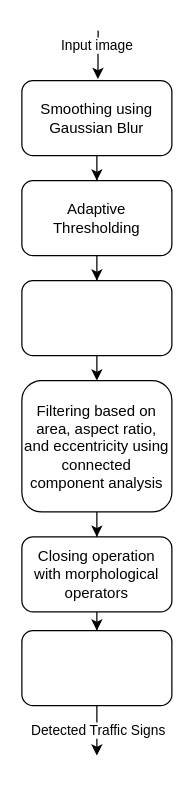
Some shapes in this 194 by 788 pixel diagram are drawn without their labels. Each missing label, with the centre of its shape:
"Hough Transform" belongs at point (96, 667).
"Negative of the image" belongs at point (96, 317).
